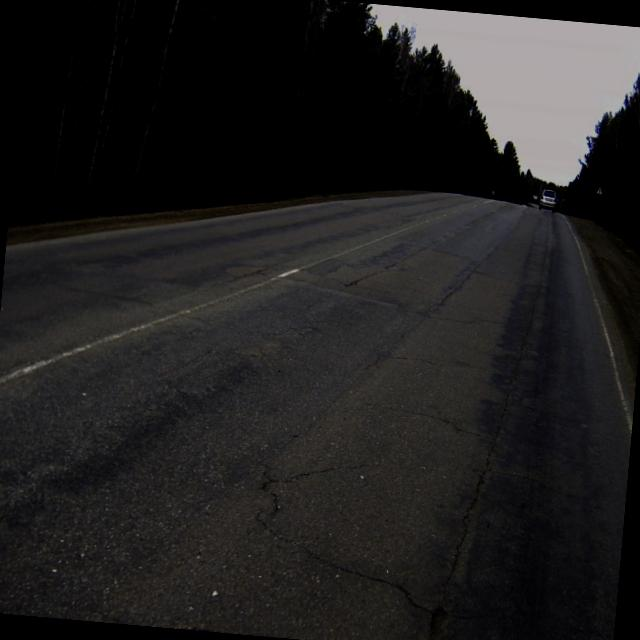road: (0, 191, 632, 640)
